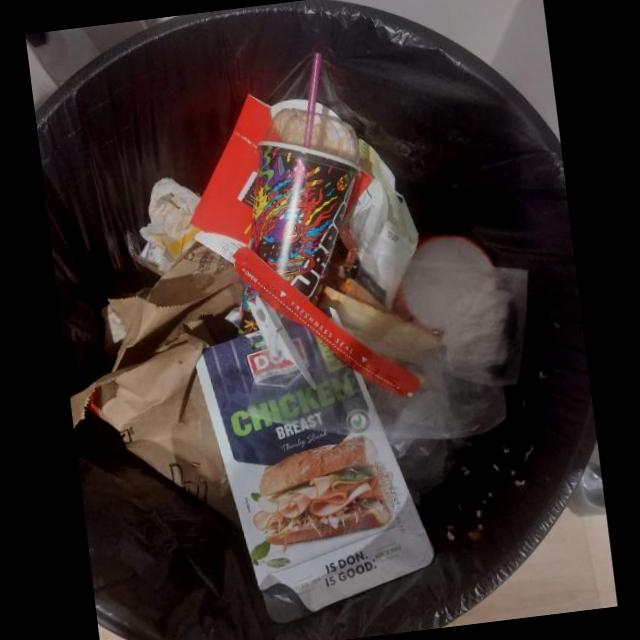bao_bi_thuc_pham: (198, 319, 432, 622), (346, 138, 421, 290)
carton: (248, 142, 362, 297)
giay: (69, 244, 241, 530), (317, 275, 445, 366), (132, 180, 201, 280)
ong_hut_nhua: (300, 48, 326, 150)
tui_ni_long: (243, 245, 529, 439)
